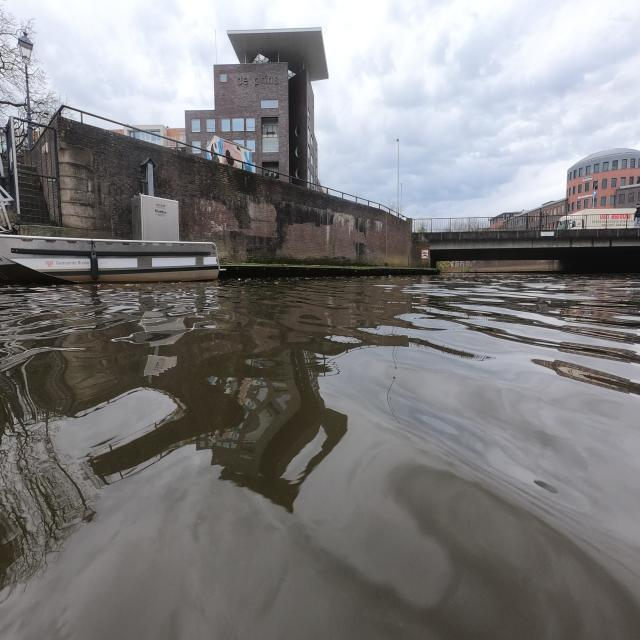boat: (0, 237, 222, 288)
dock: (224, 259, 440, 282)
sky: (0, 0, 640, 226)
wall: (19, 116, 432, 270)
water: (0, 276, 640, 638)
